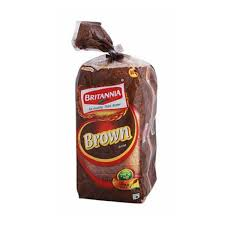bread: (73, 18, 163, 205)
